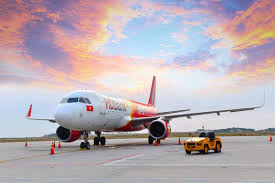maybay_dansu: (20, 71, 269, 153)
